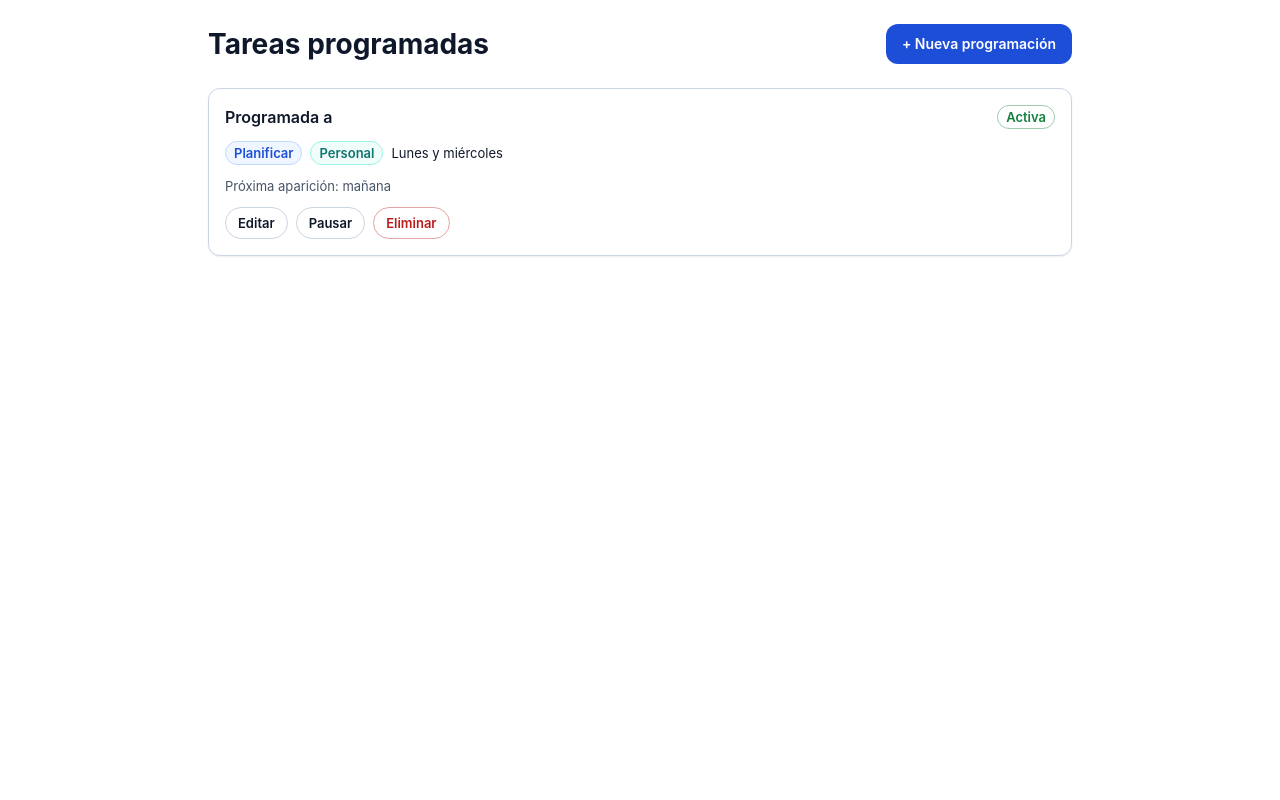
<SchedulesPage> › «Nueva programación» abre el formulario
Click the button "+ Nueva programación".
click(979, 44)  # box [886,24,1072,64]
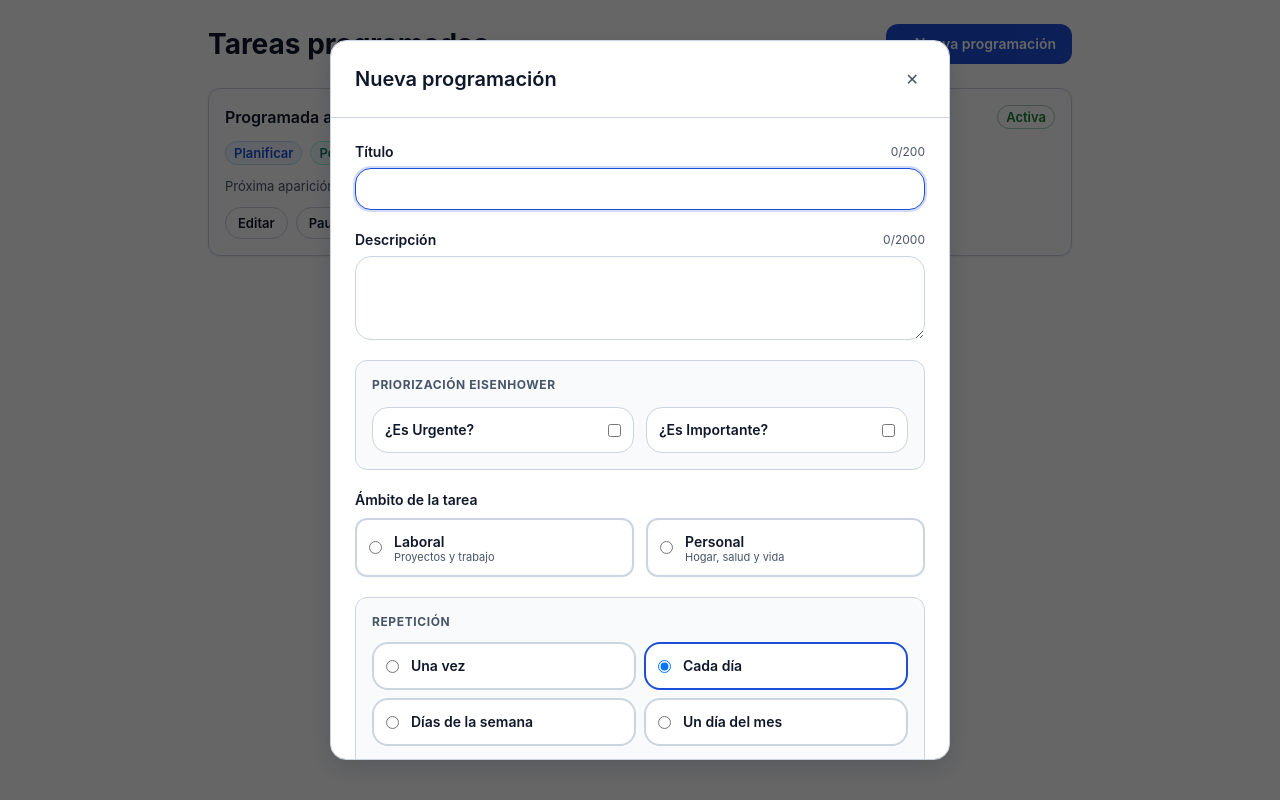
Check: the dialog "Nueva programación" is shown, box [330,40,950,760]
